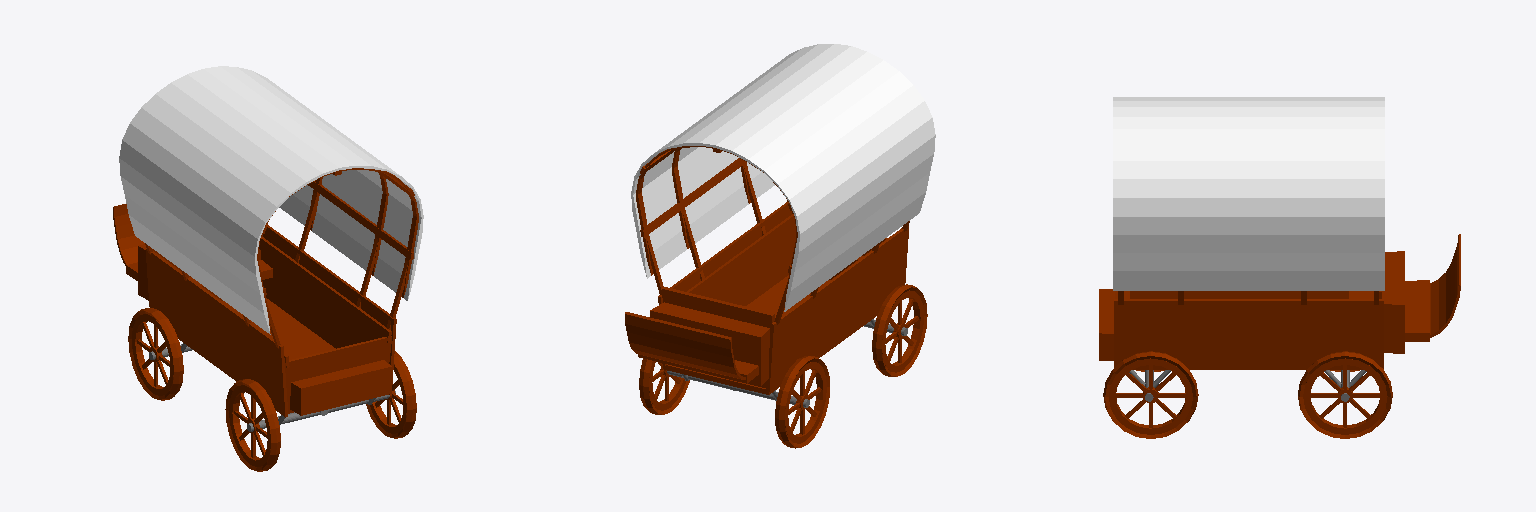
File: carriage.obj
3 renders of one model, left to right at view 1: azimuth 30°, elevation 25°; view 2: azimuth 150°, elevation 25°; view 3: azimuth 270°, elevation 25°, orthographic.
Parts seen in each view (by area): view 1: group5 pCube6, group5 pCube1, group5 pCube24, group5 pCube37, group5 pCube27, group5 pCube25, group5 pCube28, group5 pTorus4, group5 pTorus2, group5 pPipe4, group5 pPipe2, group5 pCube31 (+5 smaller); view 2: group5 pCube6, group5 pCube1, group5 pCube24, group5 pCube31, group5 pCube30, group5 pCube29, group5 pCube25, group5 pTorus2, group5 pTorus4, group5 pCube28, group5 pPipe4, group5 pPipe2 (+5 smaller); view 3: group5 pCube6, group5 pCube24, group5 pCube30, group5 pCube31, group5 pCube32, group5 pPipe1, group5 pPipe3, group5 pCube1, group5 pTorus1, group5 pTorus3, group5 pCube37.
Part boxes in pixels (left/top/right/bottom): group5 pCube6: left=119, top=66, right=423, bottom=334; group5 pCube1: left=146, top=248, right=287, bottom=417; group5 pCube24: left=261, top=224, right=396, bottom=384; group5 pCube37: left=290, top=360, right=391, bottom=415; group5 pCube27: left=285, top=336, right=391, bottom=412; group5 pCube25: left=259, top=237, right=391, bottom=342; group5 pCube28: left=222, top=298, right=335, bottom=413; group5 pTorus4: left=128, top=308, right=183, bottom=400; group5 pTorus2: left=225, top=379, right=280, bottom=471; group5 pPipe4: left=229, top=385, right=270, bottom=466; group5 pPipe2: left=132, top=314, right=173, bottom=395; group5 pCube31: left=113, top=204, right=144, bottom=265; group5 pCube6: left=631, top=44, right=935, bottom=311; group5 pCube1: left=766, top=226, right=908, bottom=394; group5 pCube24: left=658, top=202, right=795, bottom=368; group5 pCube31: left=625, top=312, right=745, bottom=379; group5 pCube30: left=650, top=302, right=769, bottom=385; group5 pCube29: left=662, top=287, right=774, bottom=388; group5 pCube25: left=687, top=214, right=795, bottom=294; group5 pTorus2: left=872, top=284, right=927, bottom=376; group5 pTorus4: left=775, top=356, right=829, bottom=448; group5 pCube28: left=664, top=275, right=829, bottom=394; group5 pPipe4: left=882, top=290, right=923, bottom=372; group5 pPipe2: left=785, top=362, right=826, bottom=443; group5 pCube6: left=1113, top=97, right=1384, bottom=290; group5 pCube24: left=1114, top=299, right=1383, bottom=369; group5 pCube30: left=1382, top=251, right=1404, bottom=353; group5 pCube31: left=1430, top=234, right=1460, bottom=337; group5 pCube32: left=1349, top=280, right=1429, bottom=341; group5 pPipe1: left=1109, top=358, right=1192, bottom=434; group5 pPipe3: left=1303, top=358, right=1387, bottom=434; group5 pCube1: left=1130, top=291, right=1348, bottom=298; group5 pTorus1: left=1103, top=351, right=1198, bottom=438; group5 pTorus3: left=1298, top=351, right=1392, bottom=438; group5 pCube37: left=1099, top=289, right=1129, bottom=360.
Bounding box in the file's own units: 6.87 × 11.57 × 12.75.